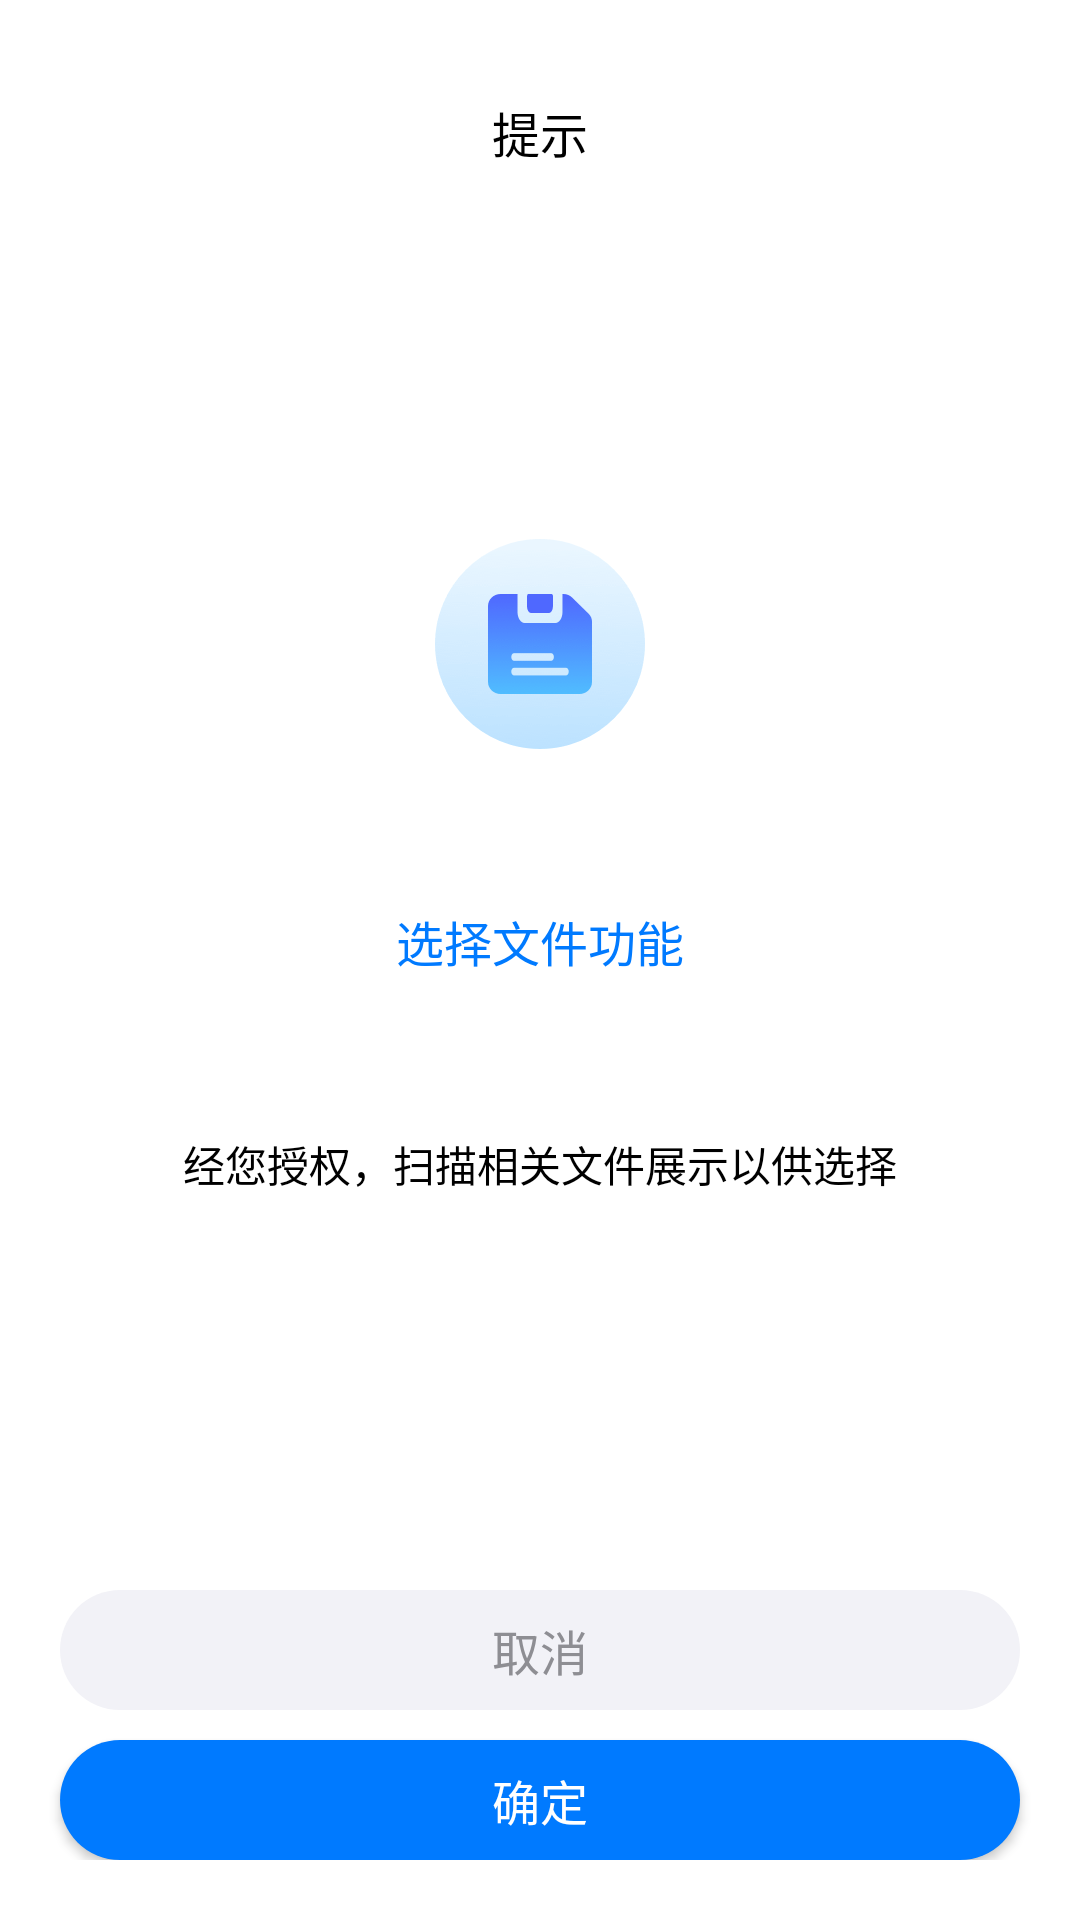

Icon bounding boxes for this 1080x1920 phone screenshot, format bbox=[x1, y1, x2, y2]:
storage: bbox=[435, 559, 645, 749]
